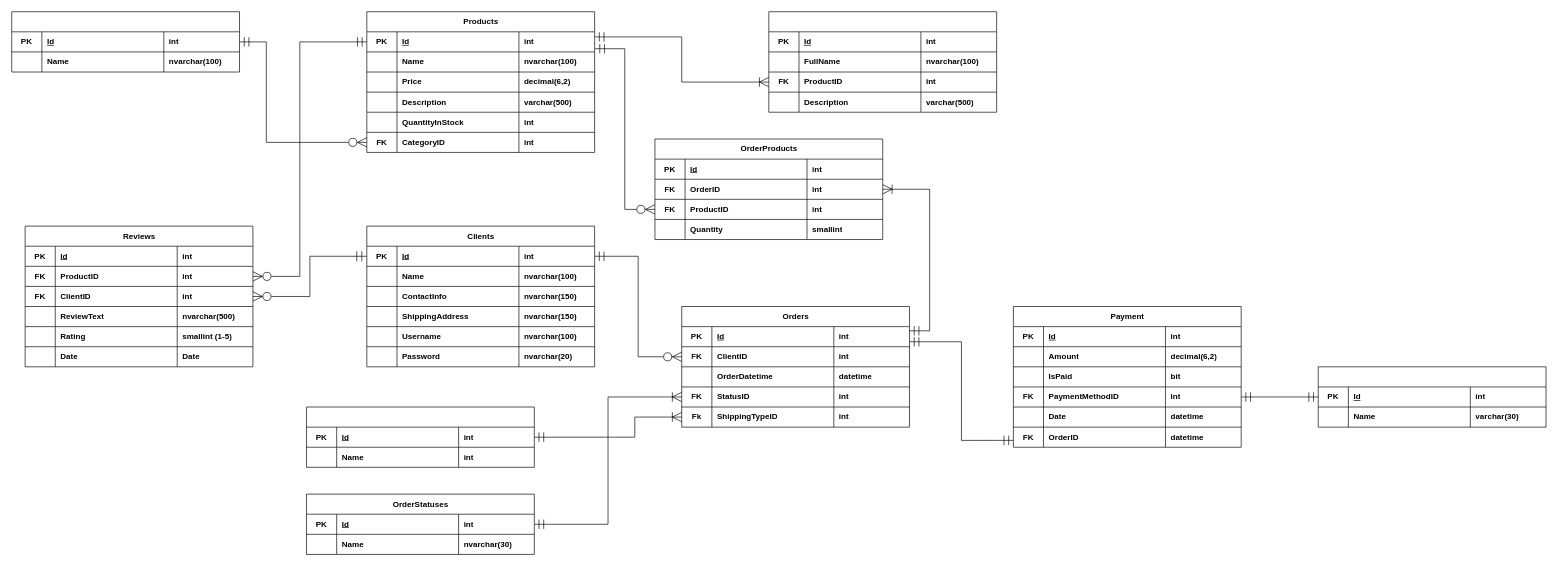
Some shapes in this 1558 by 566 pixel diagram are drawn without their labels. The shapes that lost their labels are listed below. From the top down, each one's box as (x1, y1, x2, y2) in pixels, then its label:
(11, 11, 240, 72): Categories
(768, 11, 997, 112): ProductImages
(1318, 366, 1546, 427): PaymentMethod
(306, 406, 534, 467): ShippingTypes
